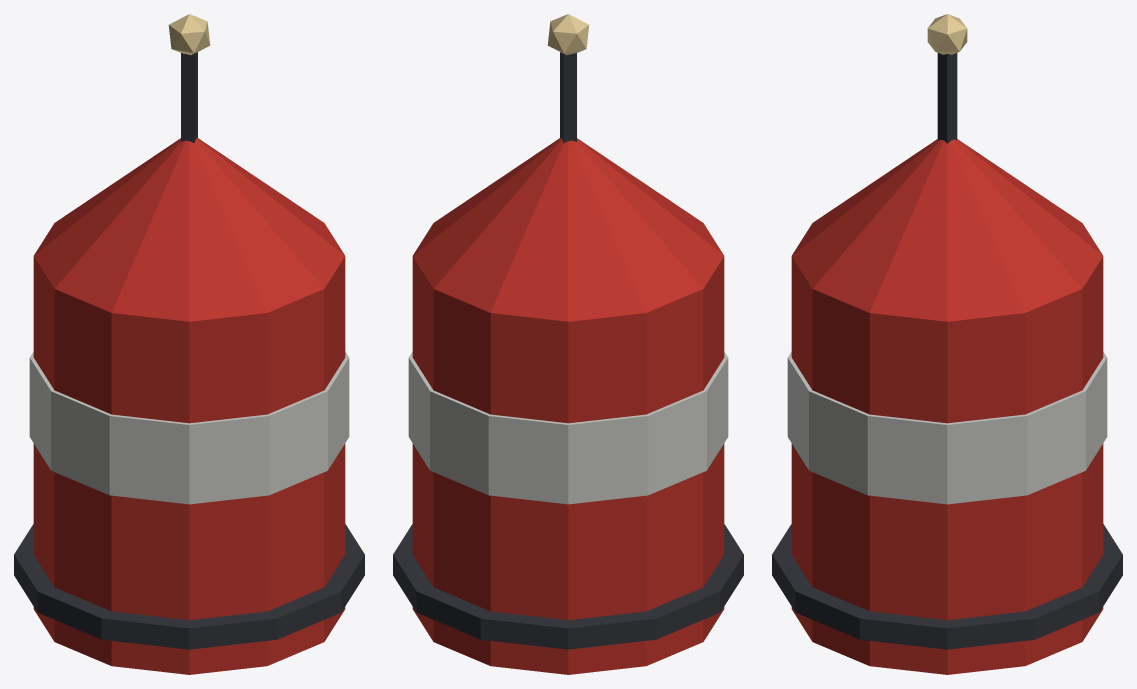
File: Buoy.glb
3 renders of one model, left to right at view 1: azimuth 30°, elevation 25°; view 2: azimuth 150°, elevation 25°; view 3: azimuth 270°, elevation 25°, orthographic.
Visible parts, largest first — view 1: Buoy; view 2: Buoy; view 3: Buoy.
Part boxes in pixels (left/top/right/bottom): Buoy: left=14, top=14, right=364, bottom=674; Buoy: left=393, top=14, right=743, bottom=674; Buoy: left=772, top=14, right=1122, bottom=674.
Size of the model in its own units: 1.8 by 3.37 by 1.8.
